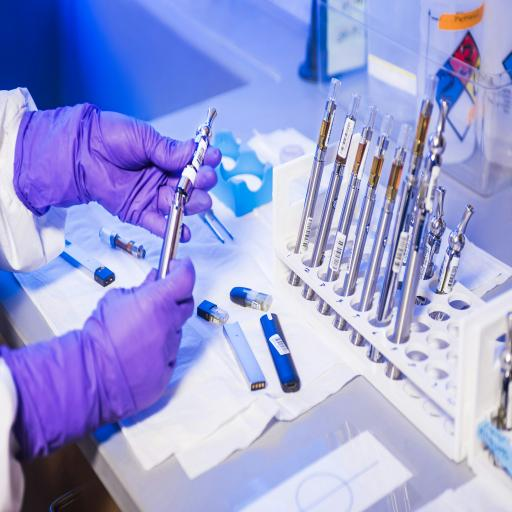Gloves: (14, 98, 219, 459)
